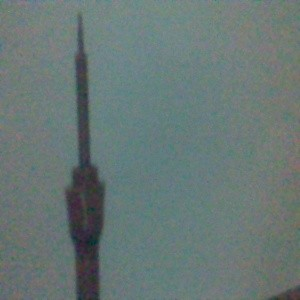solder: (64, 12, 106, 300)
